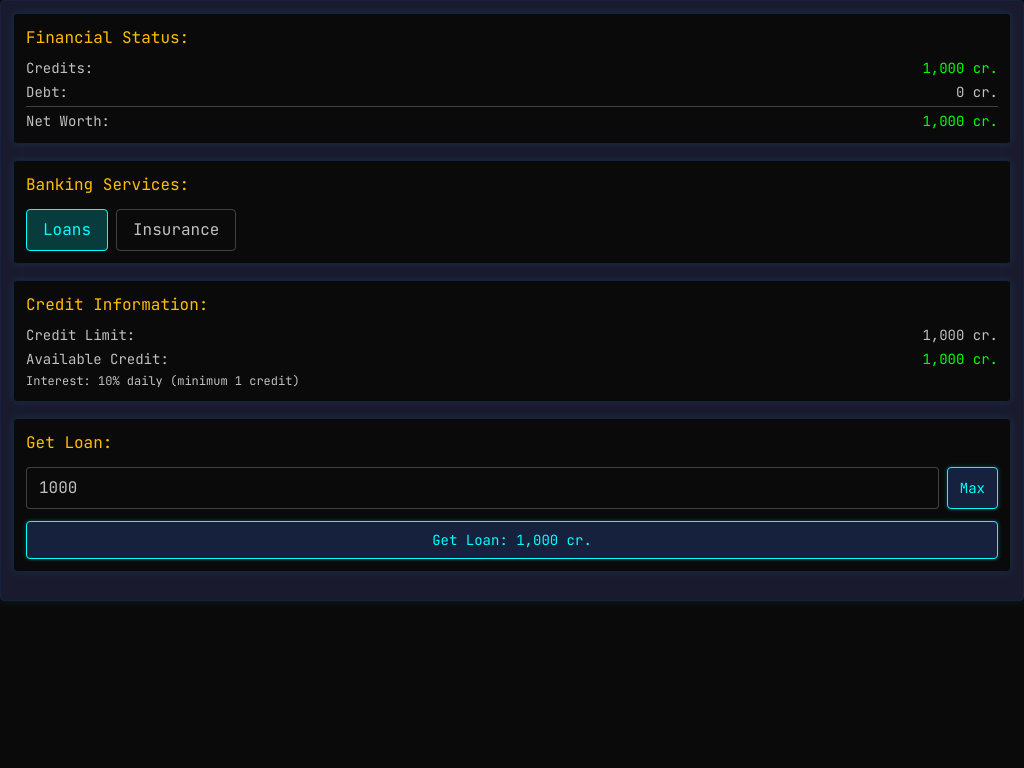
BankScreen › Tab Navigation › switches to insurance tab when clicked
Click the button with test id "insurance-tab" at (176, 230), box [116,209,236,251]
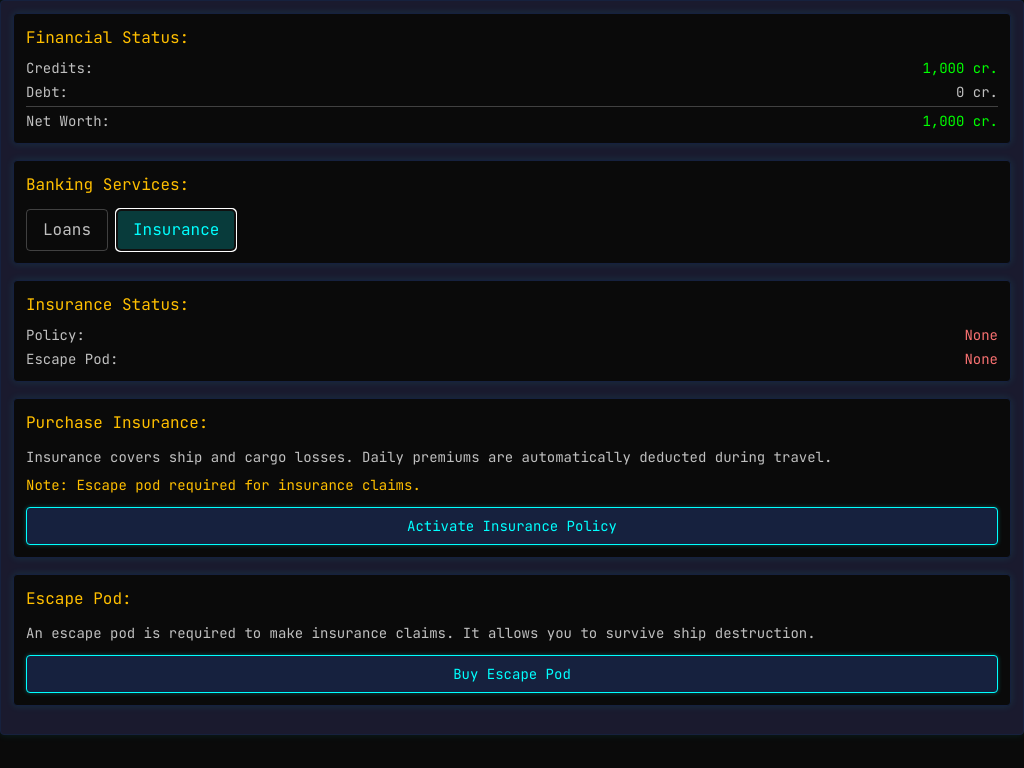
Now the element with test id "insurance-status" is shown, box [13,280,1011,382]
